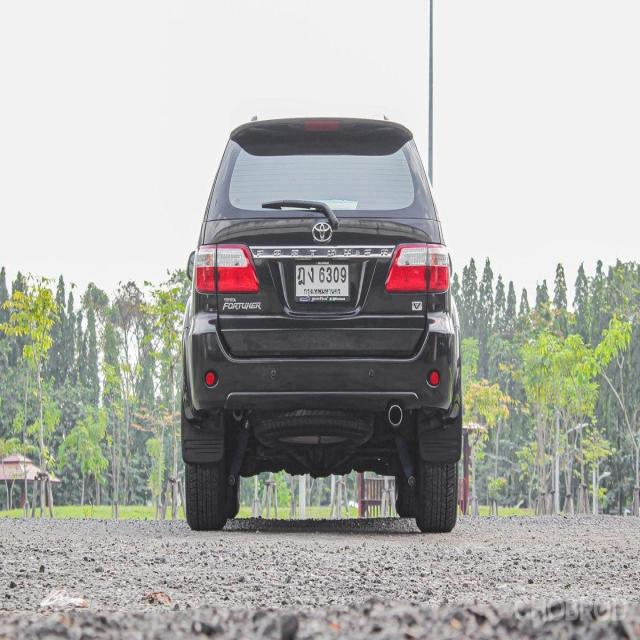license_plate: (296, 263, 350, 301)
